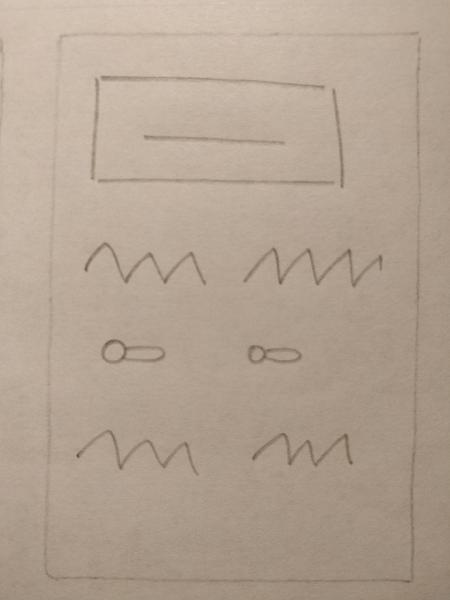button: (87, 63, 357, 195)
switch: (76, 319, 180, 380), (232, 332, 318, 385)
text: (235, 230, 387, 299), (71, 418, 203, 488), (74, 229, 212, 294), (234, 411, 365, 476)
